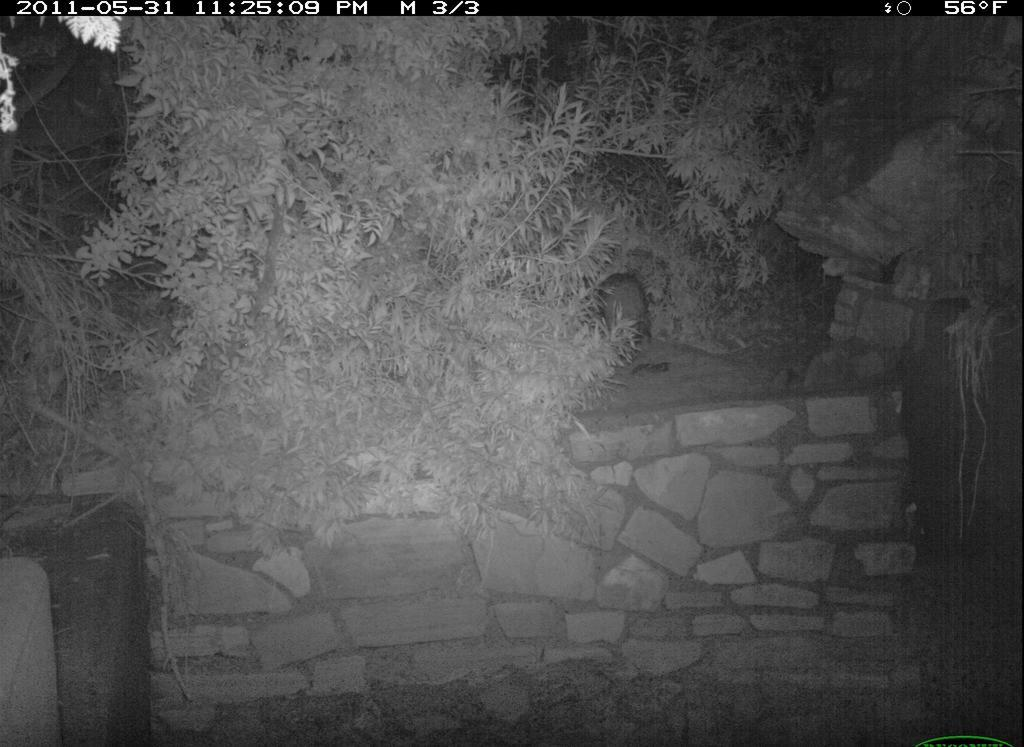raccoon: (587, 259, 660, 370)
